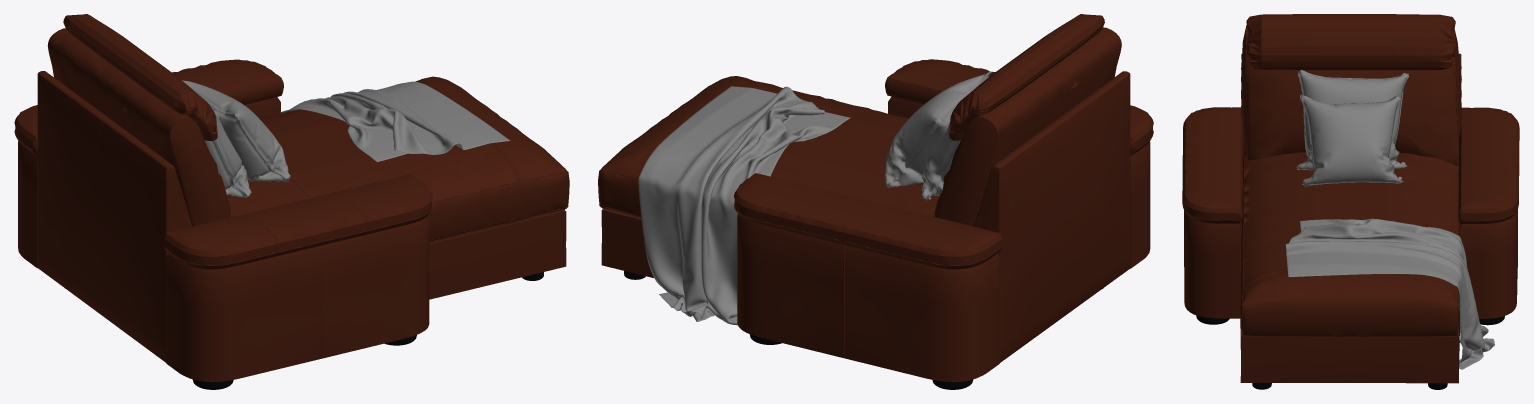
Rendered from kazetka_HI.fbx.
3 views of the same model, side by side, from view 1: azimuth 30°, elevation 25°; view 2: azimuth 150°, elevation 25°; view 3: azimuth 270°, elevation 25° (orthographic). The views are drawn at different scales.
Parts seen in each view (by area): view 1: Box142, Box140, Box137, Group026, Box138, Plane004, Box136, Group027, Box141, Box139; view 2: Box139, Box140, Plane004, Group026, Box137, Box138, Group027, Box141, Box142, Box136; view 3: Box137, Group026, Box138, Box141, Plane004, Group027, Box136, Box142, Box139.
Boxes of the visible parts, <box> form: Box142: <box>166,215,429,382</box>; Box140: <box>37,71,192,362</box>; Box137: <box>227,76,569,242</box>; Group026: <box>14,59,432,269</box>; Box138: <box>47,28,230,226</box>; Plane004: <box>280,81,510,162</box>; Box136: <box>429,209,566,299</box>; Group027: <box>181,80,290,197</box>; Box141: <box>63,14,217,141</box>; Box139: <box>18,97,280,268</box>; Box139: <box>737,214,999,382</box>; Box140: <box>974,71,1130,362</box>; Plane004: <box>638,86,850,325</box>; Group026: <box>734,59,1153,269</box>; Box137: <box>598,76,939,217</box>; Box138: <box>934,27,1121,226</box>; Group027: <box>885,71,992,200</box>; Box141: <box>949,14,1104,140</box>; Box142: <box>888,96,1150,268</box>; Box136: <box>601,208,653,277</box>; Box137: <box>1240,152,1460,336</box>; Group026: <box>1182,107,1519,223</box>; Box138: <box>1241,25,1461,166</box>; Box141: <box>1246,14,1455,70</box>; Plane004: <box>1285,218,1494,369</box>; Group027: <box>1296,69,1408,186</box>; Box136: <box>1240,236,1459,383</box>; Box142: <box>1184,210,1241,318</box>; Box139: <box>1460,209,1517,318</box>.
Size of the model in its own units: 1650 by 1042 by 1393.
